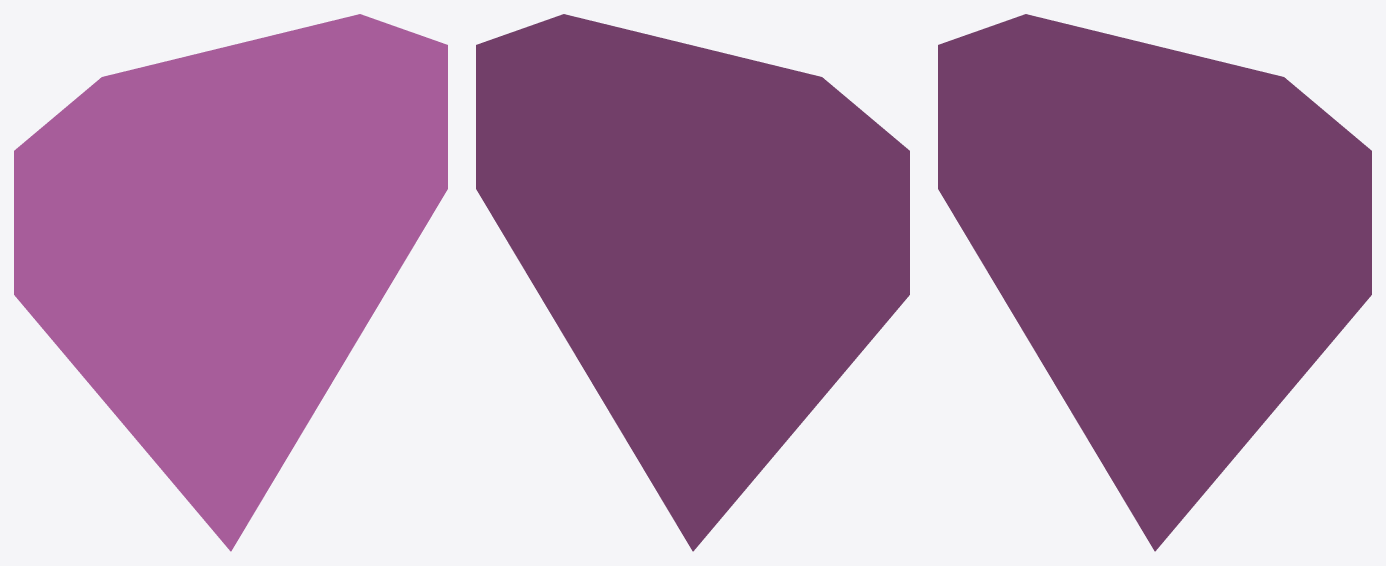
The model's file is diamond.glb.
3 views of the same model, side by side, from view 1: azimuth 30°, elevation 25°; view 2: azimuth 150°, elevation 25°; view 3: azimuth 330°, elevation 25° (orthographic).
Parts seen in each view (by area): view 1: Cube; view 2: Cube; view 3: Cube.
Part boxes in pixels (x1,y1,x2,y2): Cube: (14, 14, 447, 551); Cube: (476, 14, 909, 551); Cube: (938, 14, 1371, 551).
Size of the model in its own units: 2 by 2.23 by 0.
